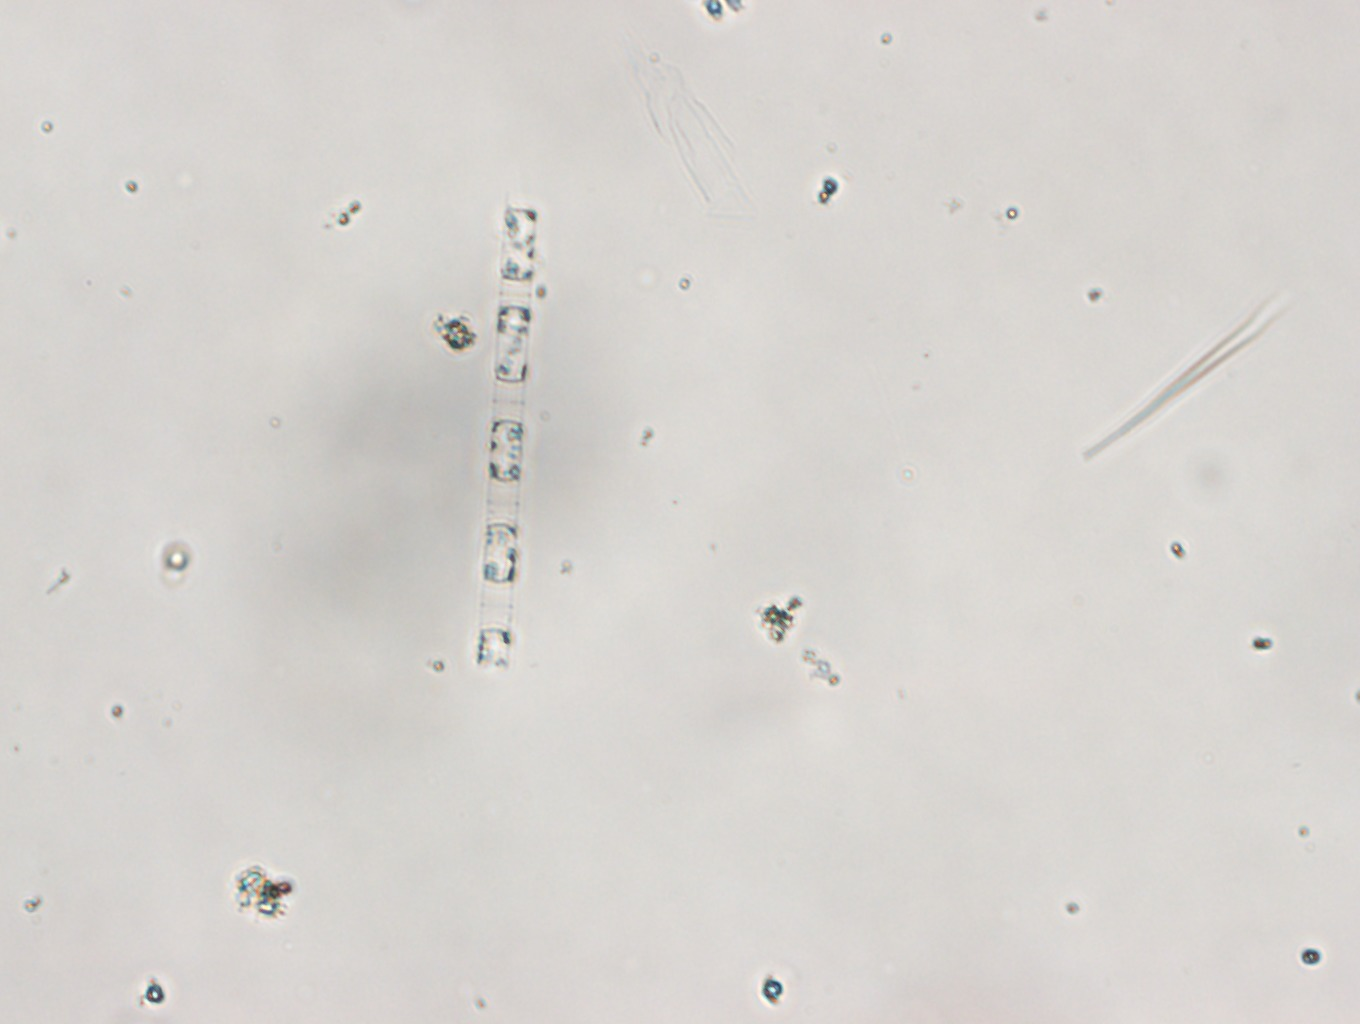skeletonema: (474, 199, 538, 675)
